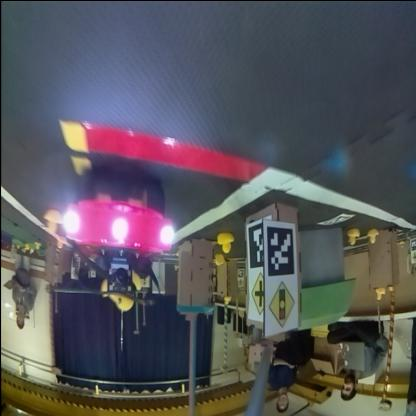Duckie: (101, 272, 143, 310), (44, 212, 61, 234), (217, 232, 234, 253), (348, 228, 360, 244), (368, 228, 378, 243), (376, 287, 384, 300), (216, 254, 223, 264), (34, 241, 40, 249), (224, 297, 230, 304)
Duckiebot: (66, 174, 172, 294)
Intersection sign: (249, 273, 264, 315)
QR code: (267, 228, 295, 276), (248, 223, 266, 268), (318, 214, 353, 225)
Signal sign: (270, 282, 296, 327)
